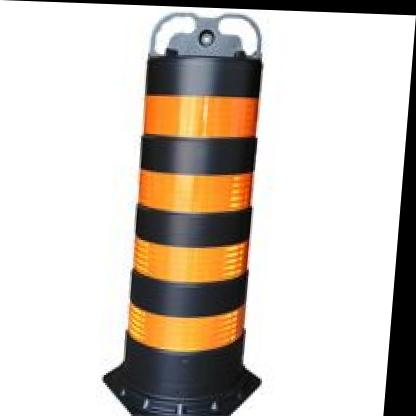obstacle: (113, 28, 280, 398)
